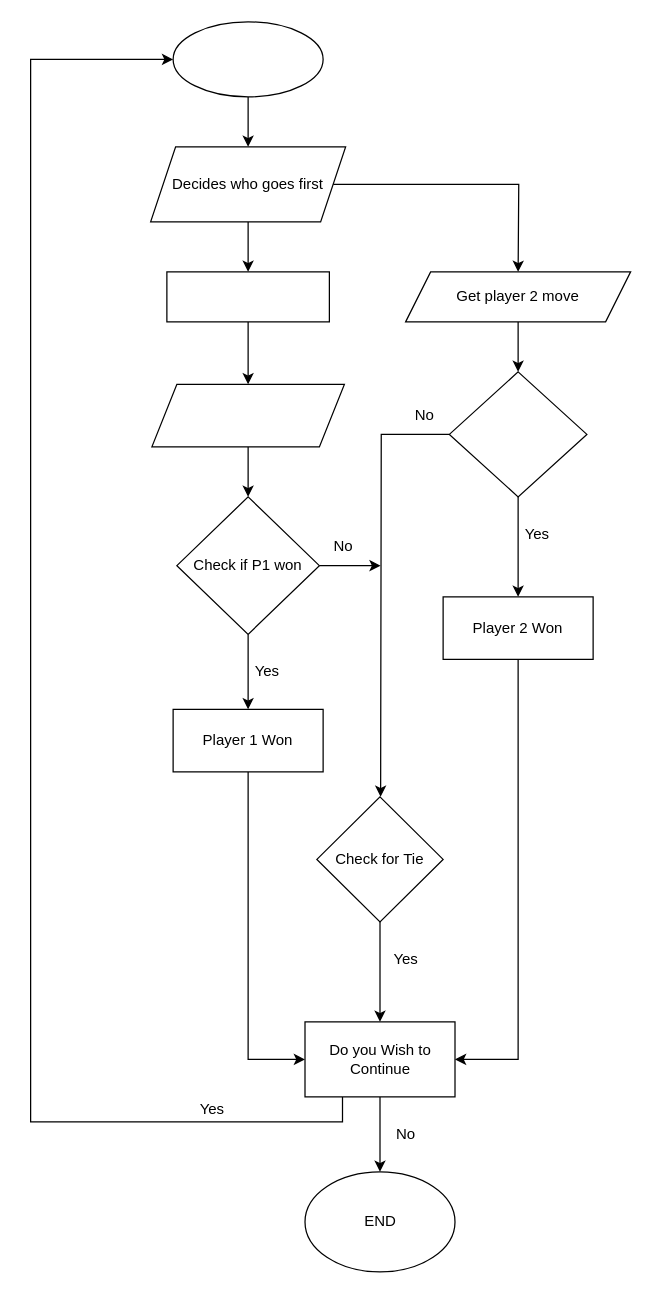
Image size: 653x1294. Some labels were removed from this diagram. The shapes that lost their labels are listed below. From the top down, each one's centre as x and y in pixels, then its label:
[247,59]: START
[247,296]: Show Board
[247,415]: Get Player 1 Move
[517,434]: Check if P2 won
